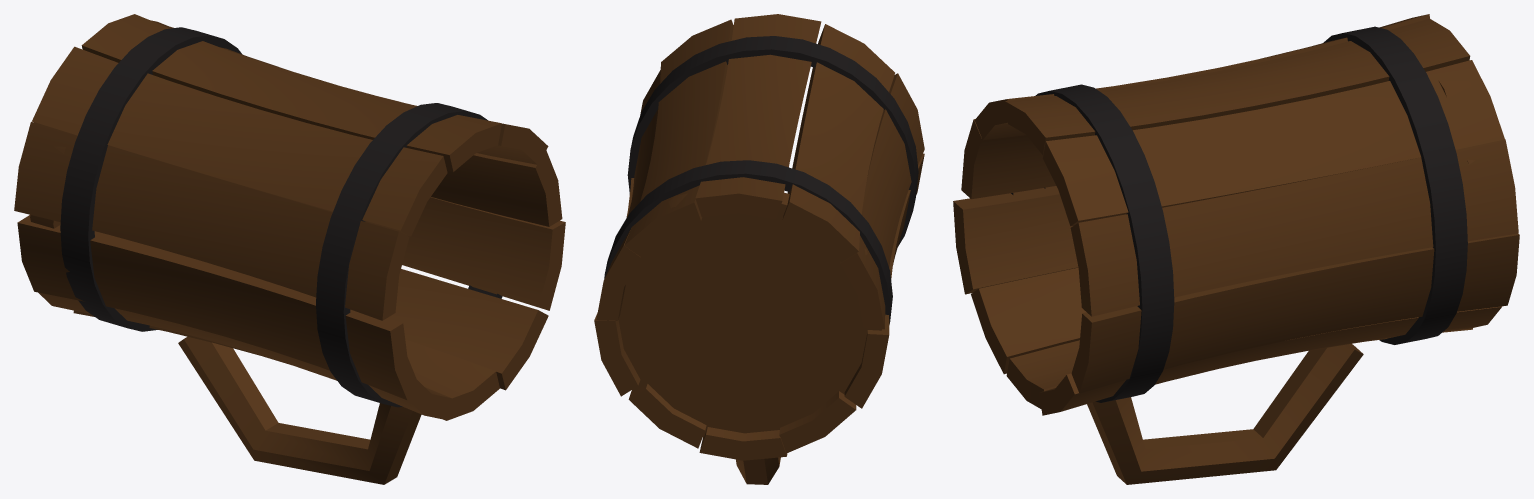
File: humpen_kaputt.glb
The picture shows the model from 3 angles, left to right: view 1: azimuth 30°, elevation 25°; view 2: azimuth 150°, elevation 25°; view 3: azimuth 270°, elevation 25°; orthographic projection. The views are drawn at different scales.
Visible parts, largest first — view 1: humpen_kaputt; view 2: humpen_kaputt; view 3: humpen_kaputt.
Part boxes in pixels (<box>): humpen_kaputt: <box>14,14,565,484</box>; humpen_kaputt: <box>594,14,924,484</box>; humpen_kaputt: <box>953,14,1519,484</box>.
Bounding box in the file's own units: 0.167 × 0.1506 × 0.1925.
